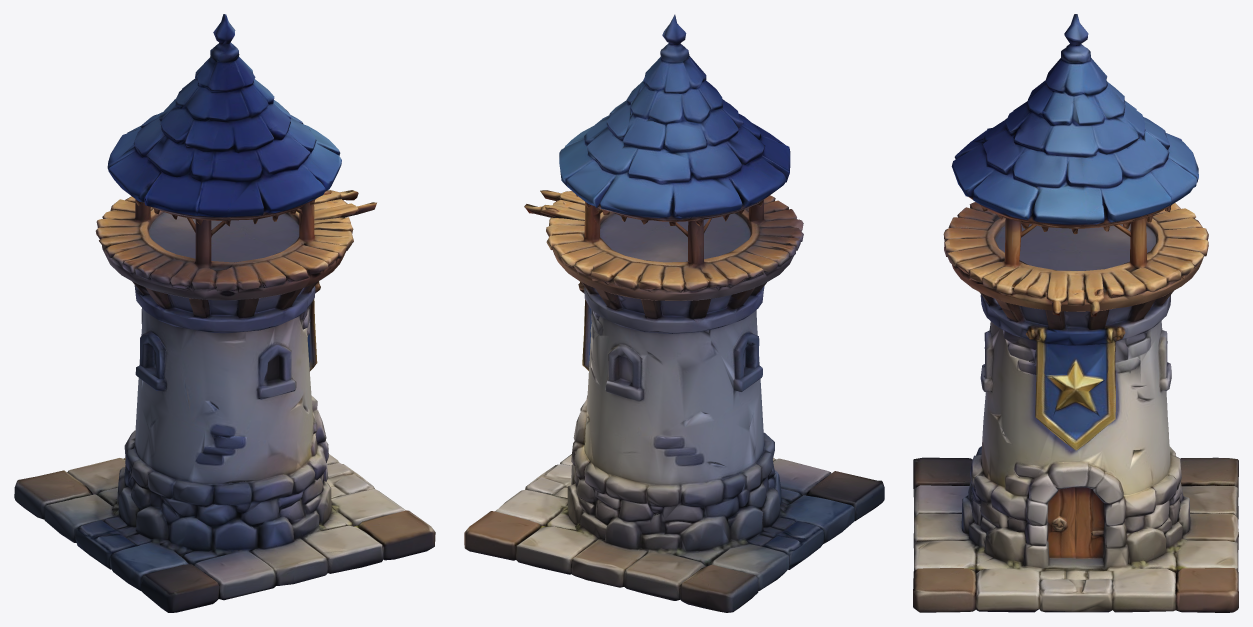
File: tower-high.glb
3 views of the same model, side by side, from view 1: azimuth 30°, elevation 25°; view 2: azimuth 150°, elevation 25°; view 3: azimuth 270°, elevation 25° (orthographic). The views are drawn at different scales.
Visible parts, largest first — view 1: tripo_node_efa72810-b5e4-4de8-a77d-54a993fa293e; view 2: tripo_node_efa72810-b5e4-4de8-a77d-54a993fa293e; view 3: tripo_node_efa72810-b5e4-4de8-a77d-54a993fa293e.
Part boxes in pixels (box(x1,y1,x2,y2)): tripo_node_efa72810-b5e4-4de8-a77d-54a993fa293e: box(14, 14, 435, 612); tripo_node_efa72810-b5e4-4de8-a77d-54a993fa293e: box(464, 14, 884, 612); tripo_node_efa72810-b5e4-4de8-a77d-54a993fa293e: box(913, 14, 1238, 612).
Size of the model in its own units: 0.566 by 0.9965 by 0.5529.
Materials: 1 (1 with a texture image).
